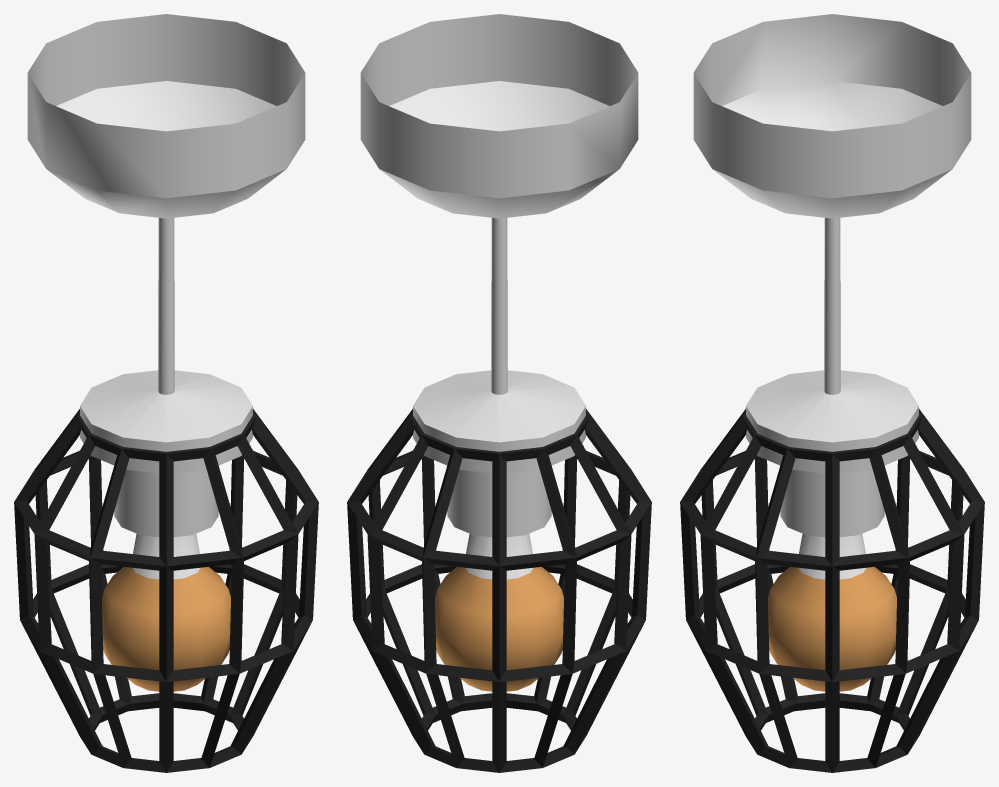
Rendered from Light_Blub_Caged.fbx.
3 renders of one model, left to right at view 1: azimuth 30°, elevation 25°; view 2: azimuth 150°, elevation 25°; view 3: azimuth 270°, elevation 25°, orthographic.
Visible parts, largest first — view 1: Light_Blub_Caged; view 2: Light_Blub_Caged; view 3: Light_Blub_Caged.
Part boxes in pixels (<box>): Light_Blub_Caged: <box>14,14,318,772</box>; Light_Blub_Caged: <box>347,14,651,772</box>; Light_Blub_Caged: <box>680,14,984,772</box>.
Size of the model in its own units: 0.105 by 0.2534 by 0.105.
